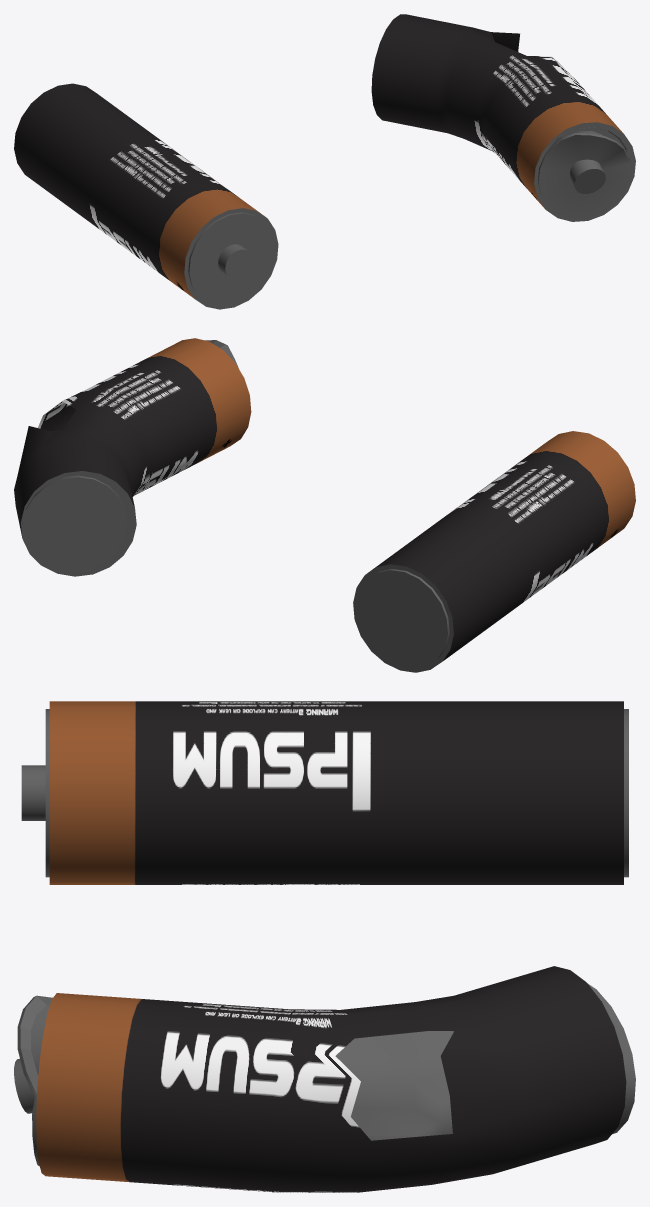
File: Battery.fbx
The picture shows the model from 3 angles, top to bottom: view 1: azimuth 30°, elevation 25°; view 2: azimuth 150°, elevation 25°; view 3: azimuth 270°, elevation 25°; orthographic projection. The views are drawn at different scales.
Parts seen in each view (by area): view 1: polySurface1, pCylinder9, polySurface3, pCylinder10, pCylinder11; view 2: pCylinder9, polySurface1, polySurface3, pCylinder10; view 3: pCylinder9, polySurface1, polySurface3, pCylinder10, pCylinder11.
Boxes of the visible parts, x1,y1,x2,y2 form: polySurface1: (371,14,635,221); pCylinder9: (14,83,278,309); polySurface3: (538,127,632,218); pCylinder10: (188,212,275,305); pCylinder11: (218,244,253,280); pCylinder9: (353,431,635,672); polySurface1: (14,338,251,576); polySurface3: (22,340,238,573); pCylinder10: (355,569,449,669); pCylinder9: (49,701,623,884); polySurface1: (36,966,626,1192); polySurface3: (14,984,635,1166); pCylinder10: (45,709,628,877); pCylinder11: (21,765,45,820).
Size of the model in its own units: 9.96 by 2 by 6.76.
Materials: 2 (2 with a texture image).
